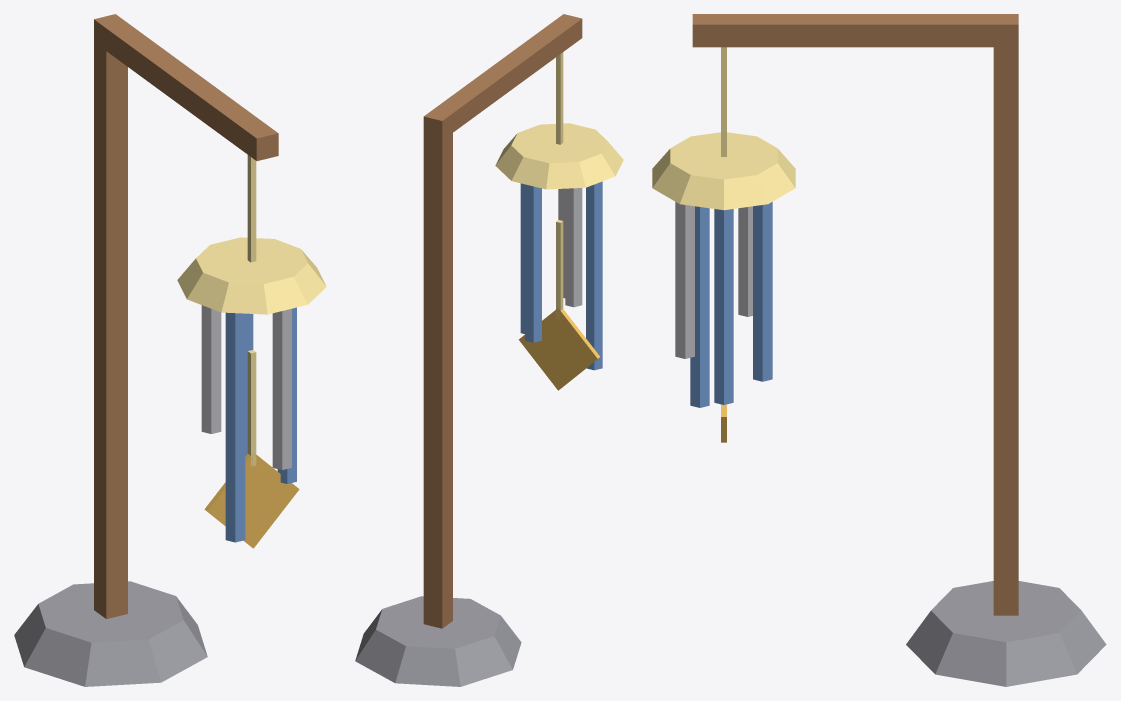
Rendered from deco_wind_chime.obj.
3 views of the same model, side by side, from view 1: azimuth 30°, elevation 25°; view 2: azimuth 150°, elevation 25°; view 3: azimuth 270°, elevation 25° (orthographic). The views are drawn at different scales.
Parts seen in each view (by area): view 1: deco_wind_chime; view 2: deco_wind_chime; view 3: deco_wind_chime.
Boxes of the visible parts, x1,y1,x2,y2 form: deco_wind_chime: (14,14,326,686); deco_wind_chime: (355,14,623,686); deco_wind_chime: (652,14,1106,686).
Size of the model in its own units: 0.032 by 0.11 by 0.0724.
Materials: 1 (1 with a texture image).
